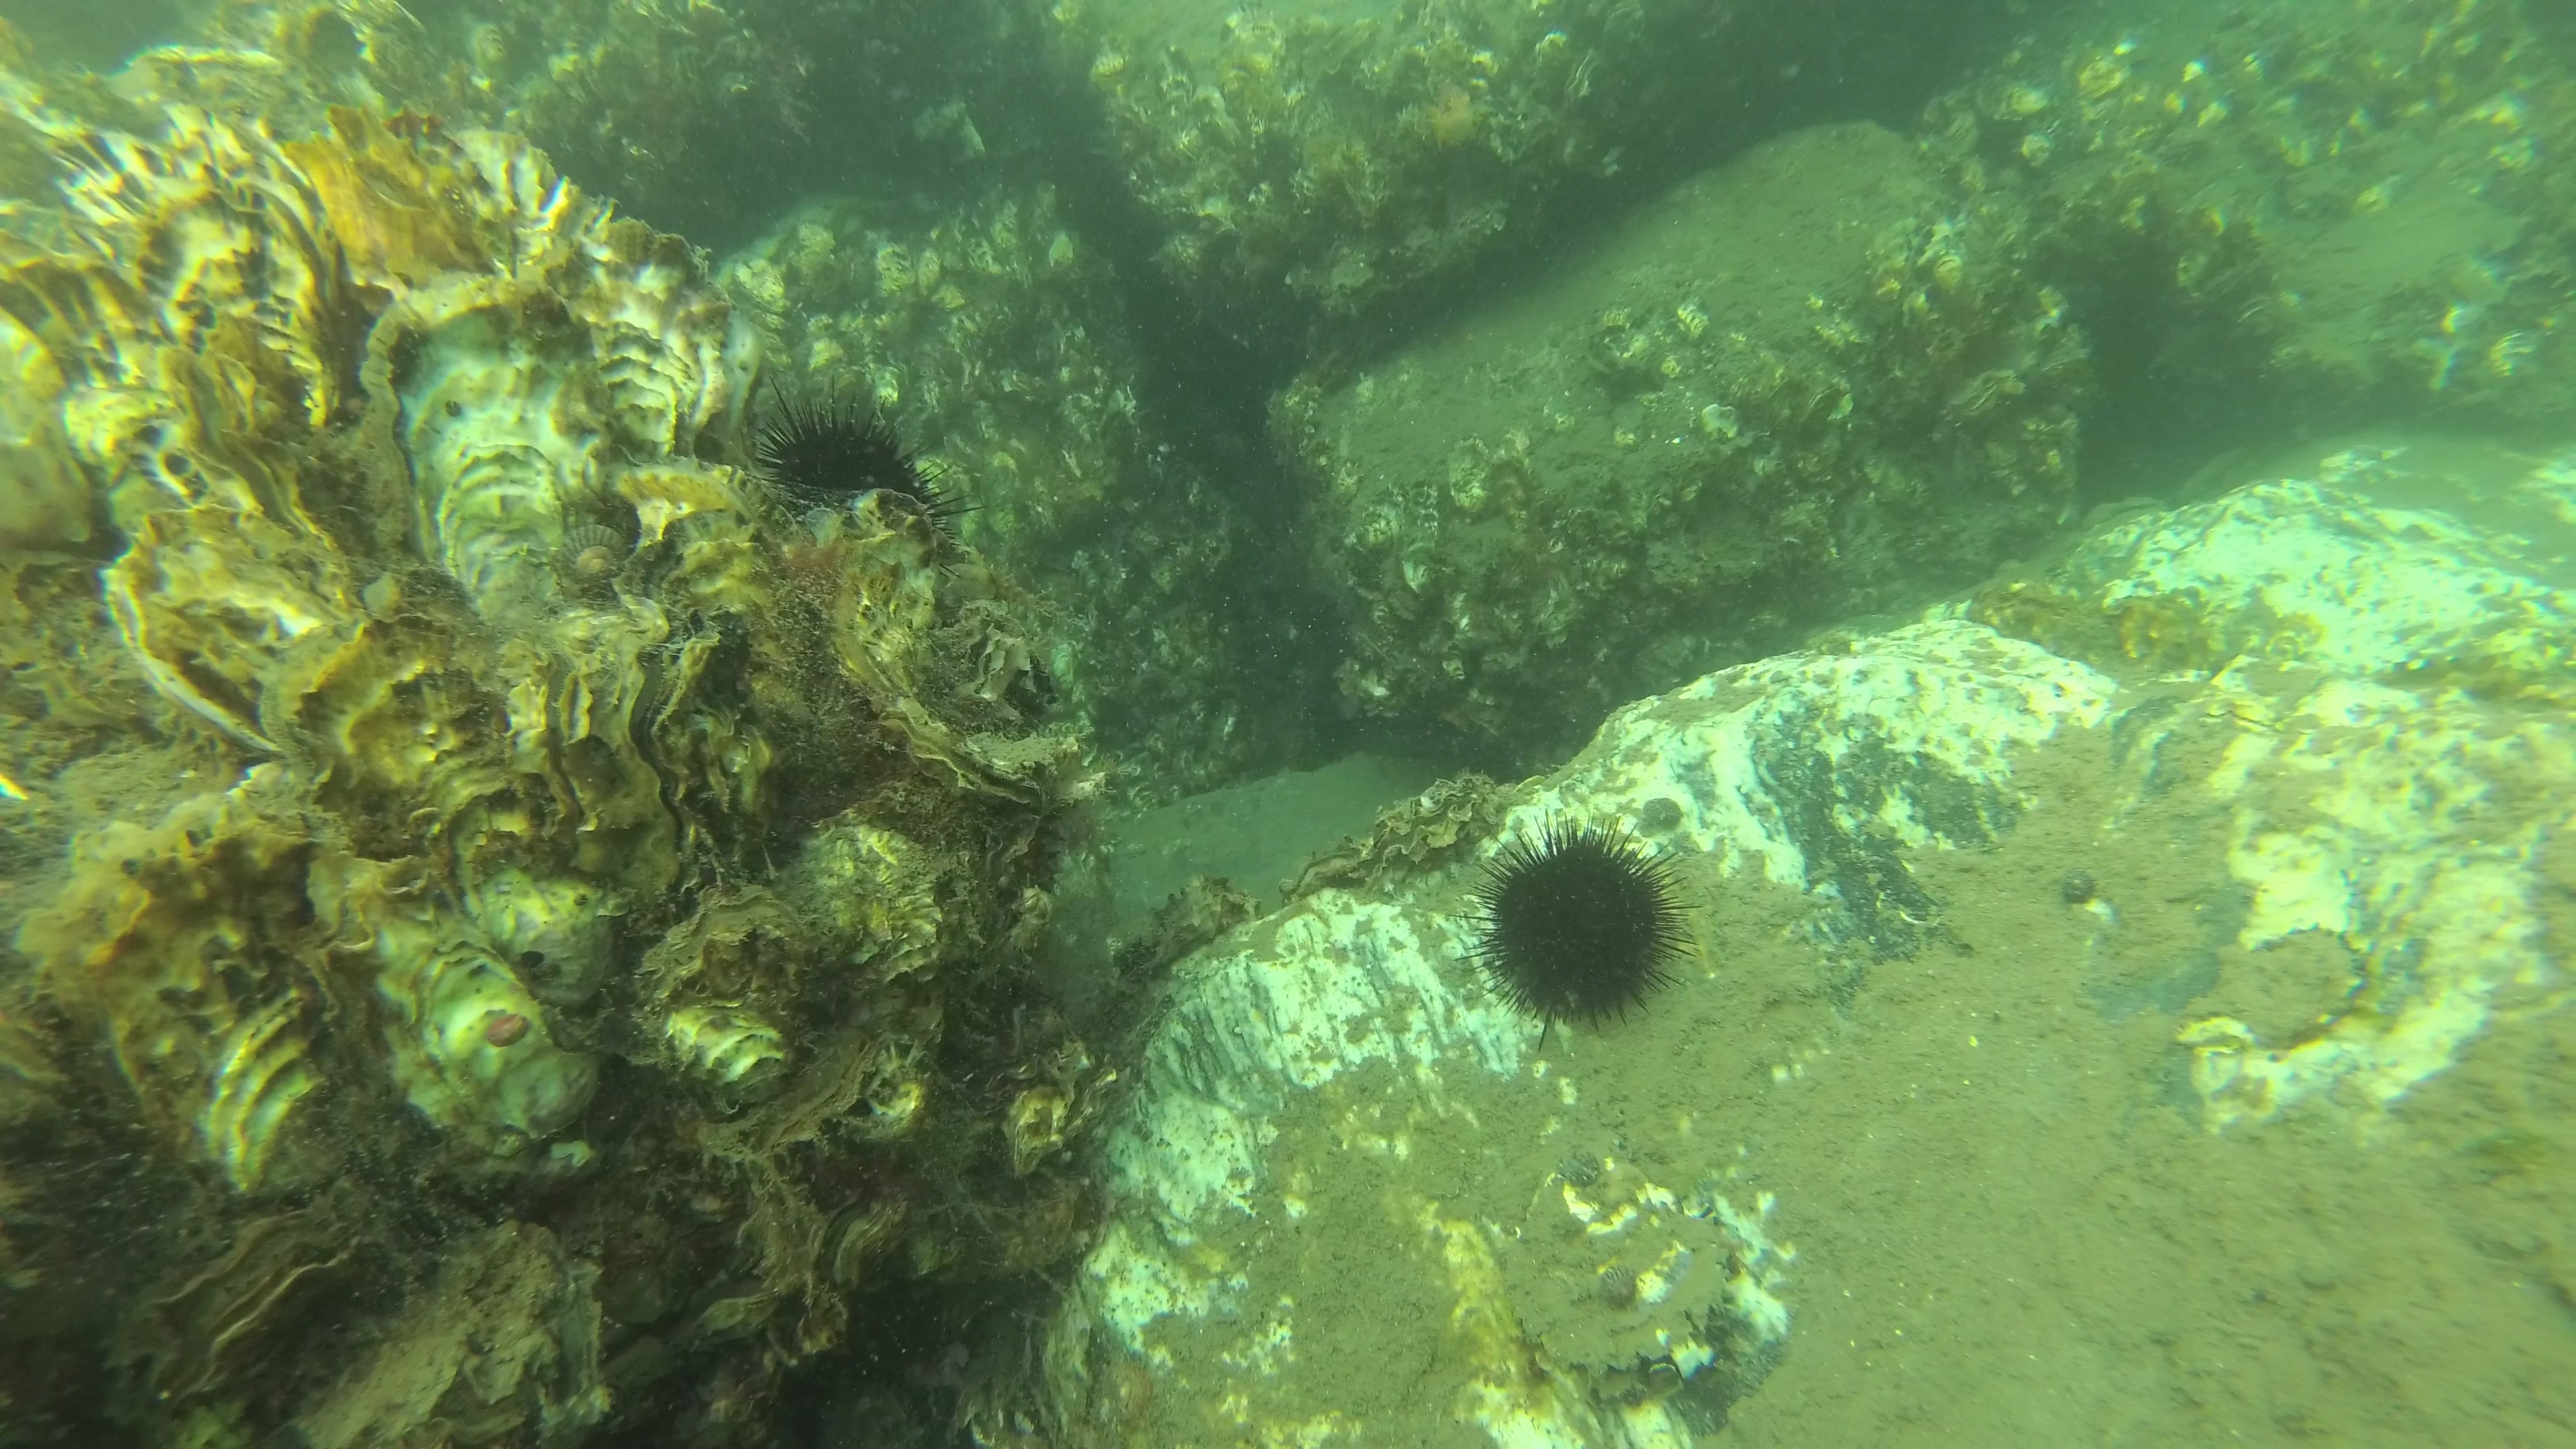echinus: (1460, 816, 1700, 1051), (755, 395, 971, 547)
